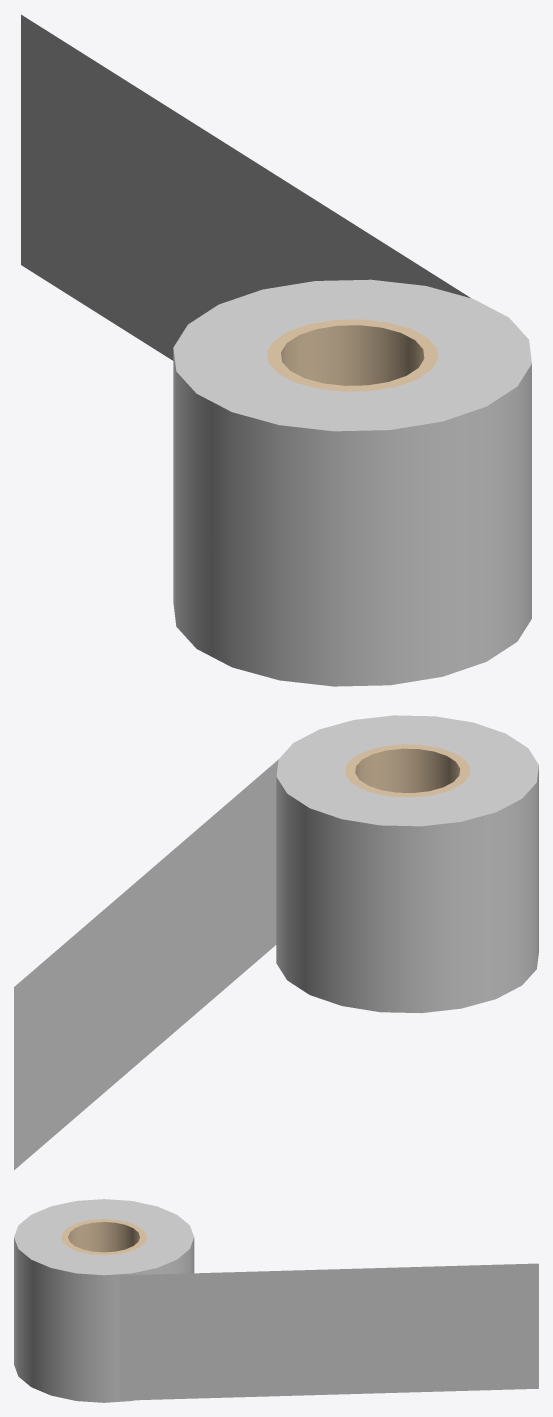
File: SM_ToiletPaper.fbx
3 views of the same model, one above another, from view 1: azimuth 30°, elevation 25°; view 2: azimuth 150°, elevation 25°; view 3: azimuth 270°, elevation 25° (orthographic). The views are drawn at different scales.
Parts seen in each view (by area): view 1: Toiletpaper, TPTail; view 2: Toiletpaper, TPTail; view 3: TPTail, Toiletpaper.
Part boxes in pixels (x1,y1,x2,y2): Toiletpaper: (173,279,531,686); TPTail: (21,14,470,360); Toiletpaper: (276,715,538,1013); TPTail: (14,759,278,1169); TPTail: (119,1263,538,1400); Toiletpaper: (14,1199,194,1402).
Bounding box in the file's own units: 1.66 × 1.3 × 4.83.
